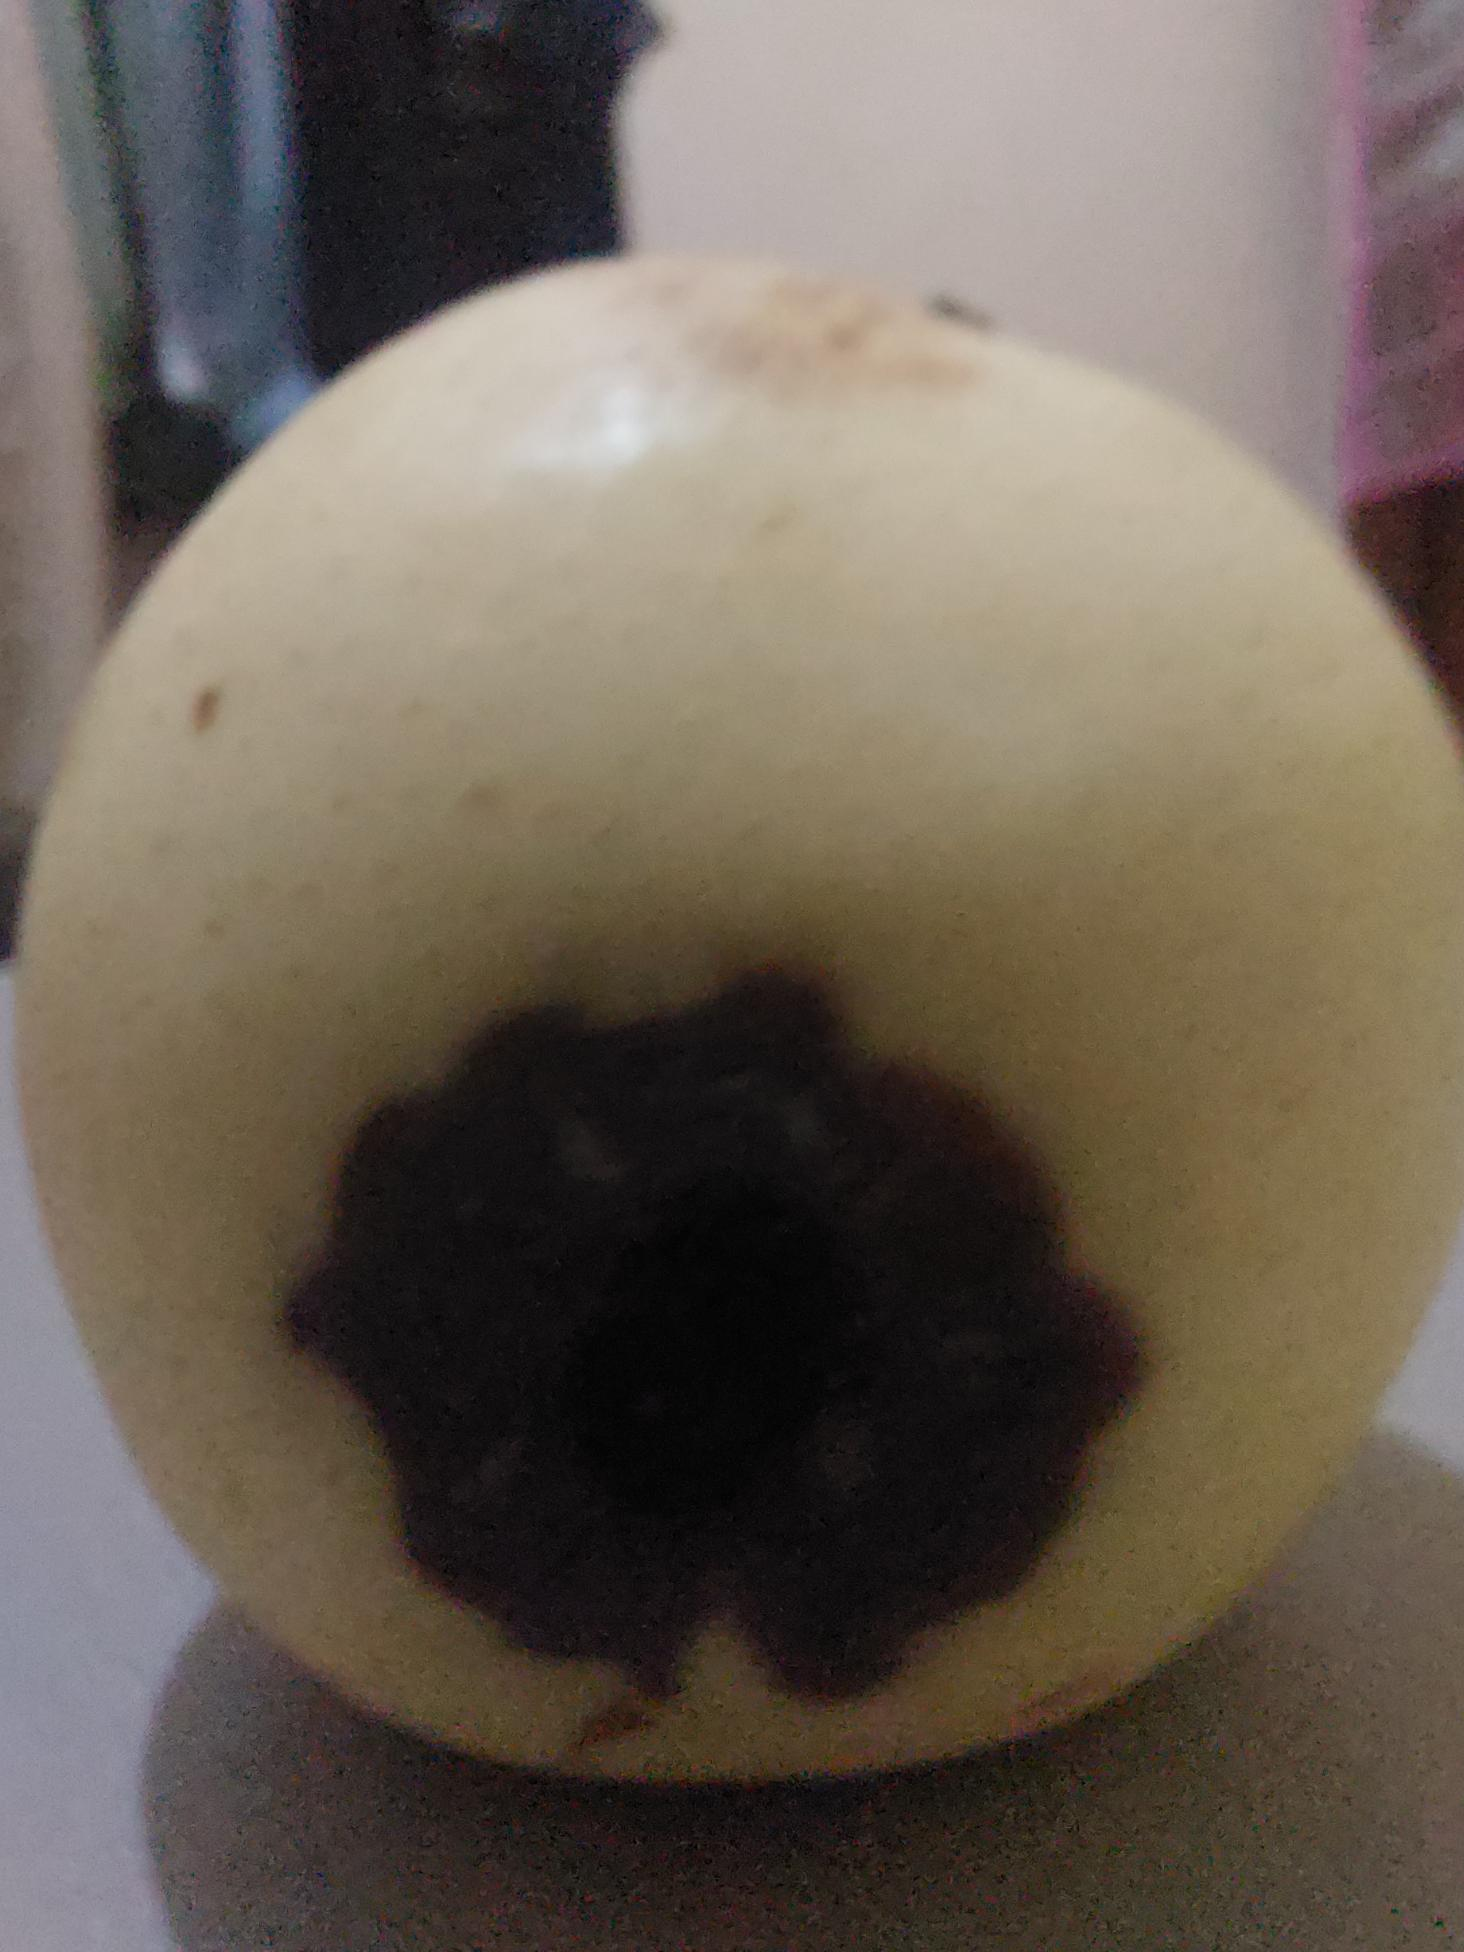Bad Pear: (0, 244, 1464, 1817)
